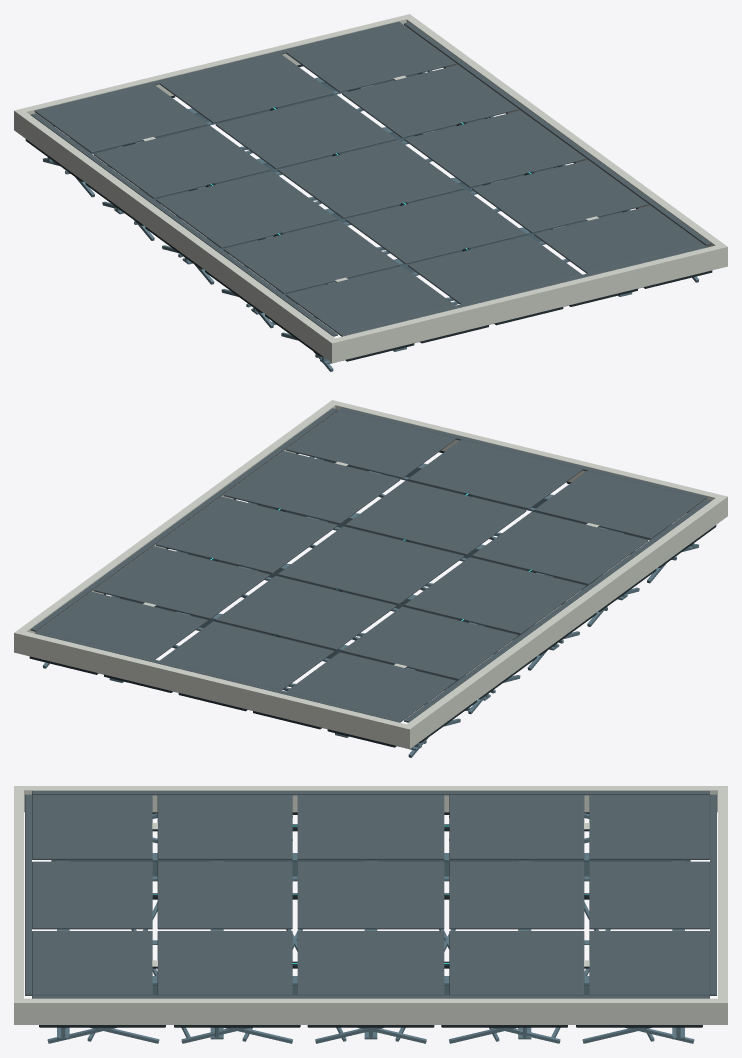
The model's file is central_berth_hero_v1.glb.
The picture shows the model from 3 angles, top to bottom: view 1: azimuth 30°, elevation 25°; view 2: azimuth 150°, elevation 25°; view 3: azimuth 270°, elevation 25°; orthographic projection. The views are drawn at different scales.
Visible parts, largest first — view 1: deck_panels__DeckComposite, edge_fascia__EdgeIvory, primary_structure__StructuralAlloy, edge_fascia__ServiceGraphite, secondary_structure__StructuralAlloy; view 2: deck_panels__DeckComposite, edge_fascia__EdgeIvory, primary_structure__StructuralAlloy, edge_fascia__ServiceGraphite, secondary_structure__StructuralAlloy; view 3: deck_panels__DeckComposite, edge_fascia__EdgeIvory, secondary_structure__StructuralAlloy, primary_structure__StructuralAlloy, edge_fascia__ServiceGraphite, service_channels__ServiceGraphite.
Part boxes in pixels (x1=…): deck_panels__DeckComposite: x1=31, y1=21, x2=711, y2=336; edge_fascia__EdgeIvory: x1=14, y1=14, x2=727, y2=362; primary_structure__StructuralAlloy: x1=45, y1=74, x2=642, y2=364; edge_fascia__ServiceGraphite: x1=25, y1=64, x2=712, y2=361; secondary_structure__StructuralAlloy: x1=43, y1=70, x2=698, y2=371; deck_panels__DeckComposite: x1=30, y1=407, x2=710, y2=722; edge_fascia__EdgeIvory: x1=14, y1=400, x2=727, y2=748; primary_structure__StructuralAlloy: x1=99, y1=460, x2=696, y2=750; edge_fascia__ServiceGraphite: x1=29, y1=450, x2=716, y2=747; secondary_structure__StructuralAlloy: x1=43, y1=456, x2=698, y2=757; deck_panels__DeckComposite: x1=25, y1=791, x2=716, y2=998; edge_fascia__EdgeIvory: x1=14, y1=786, x2=727, y2=1024; secondary_structure__StructuralAlloy: x1=47, y1=813, x2=694, y2=1043; primary_structure__StructuralAlloy: x1=51, y1=853, x2=690, y2=1039; edge_fascia__ServiceGraphite: x1=39, y1=812, x2=702, y2=1027; service_channels__ServiceGraphite: x1=152, y1=824, x2=589, y2=968.
Size of the model in its own units: 25.5 by 2.67 by 35.5.
